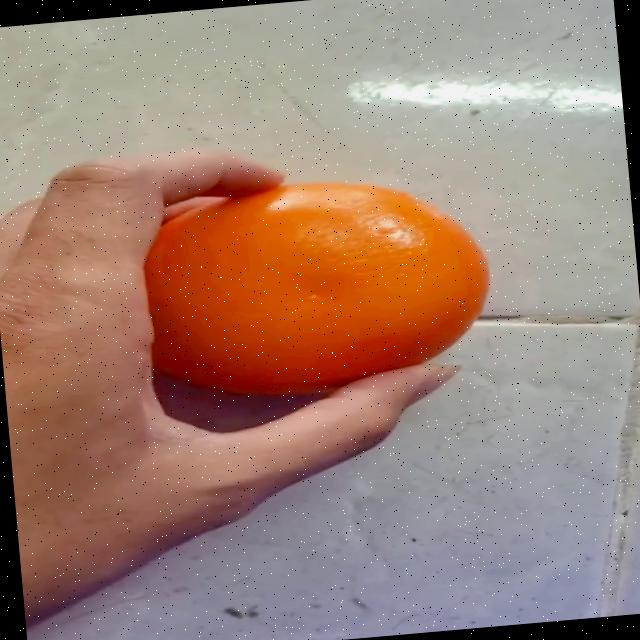orange: (104, 156, 516, 418)
